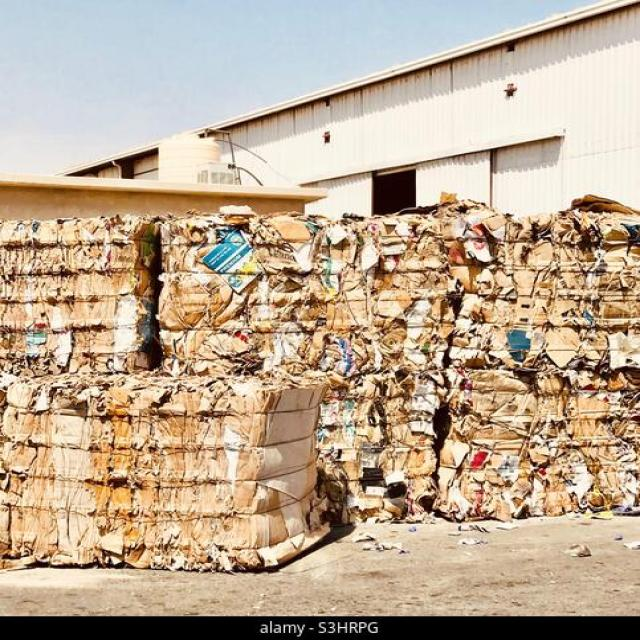cardboard: (36, 232, 580, 511)
